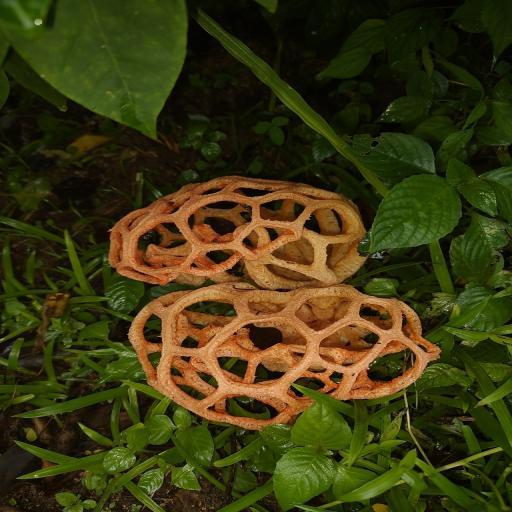mushroom: (128, 283, 439, 427), (112, 174, 377, 287)
